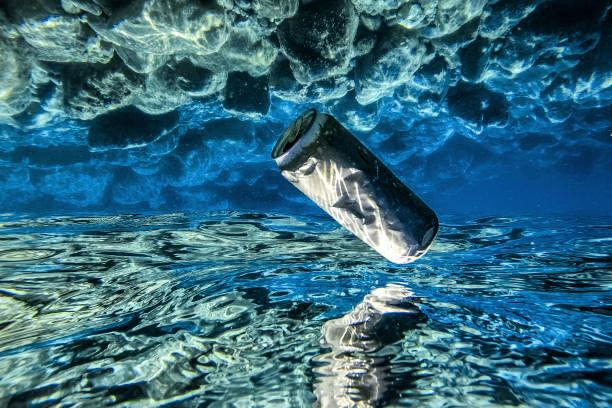Plastic: (273, 111, 448, 275)
